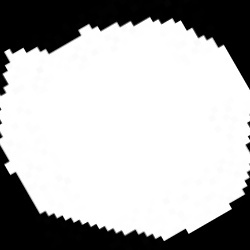spot: (2, 16, 249, 242)
